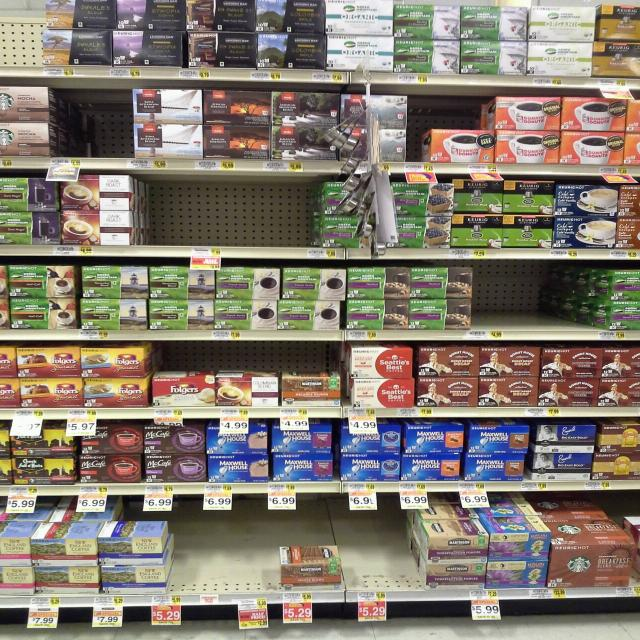void: (143, 176, 309, 243), (481, 266, 599, 332), (176, 520, 272, 588), (56, 82, 126, 156), (351, 515, 412, 587), (0, 6, 34, 65)
